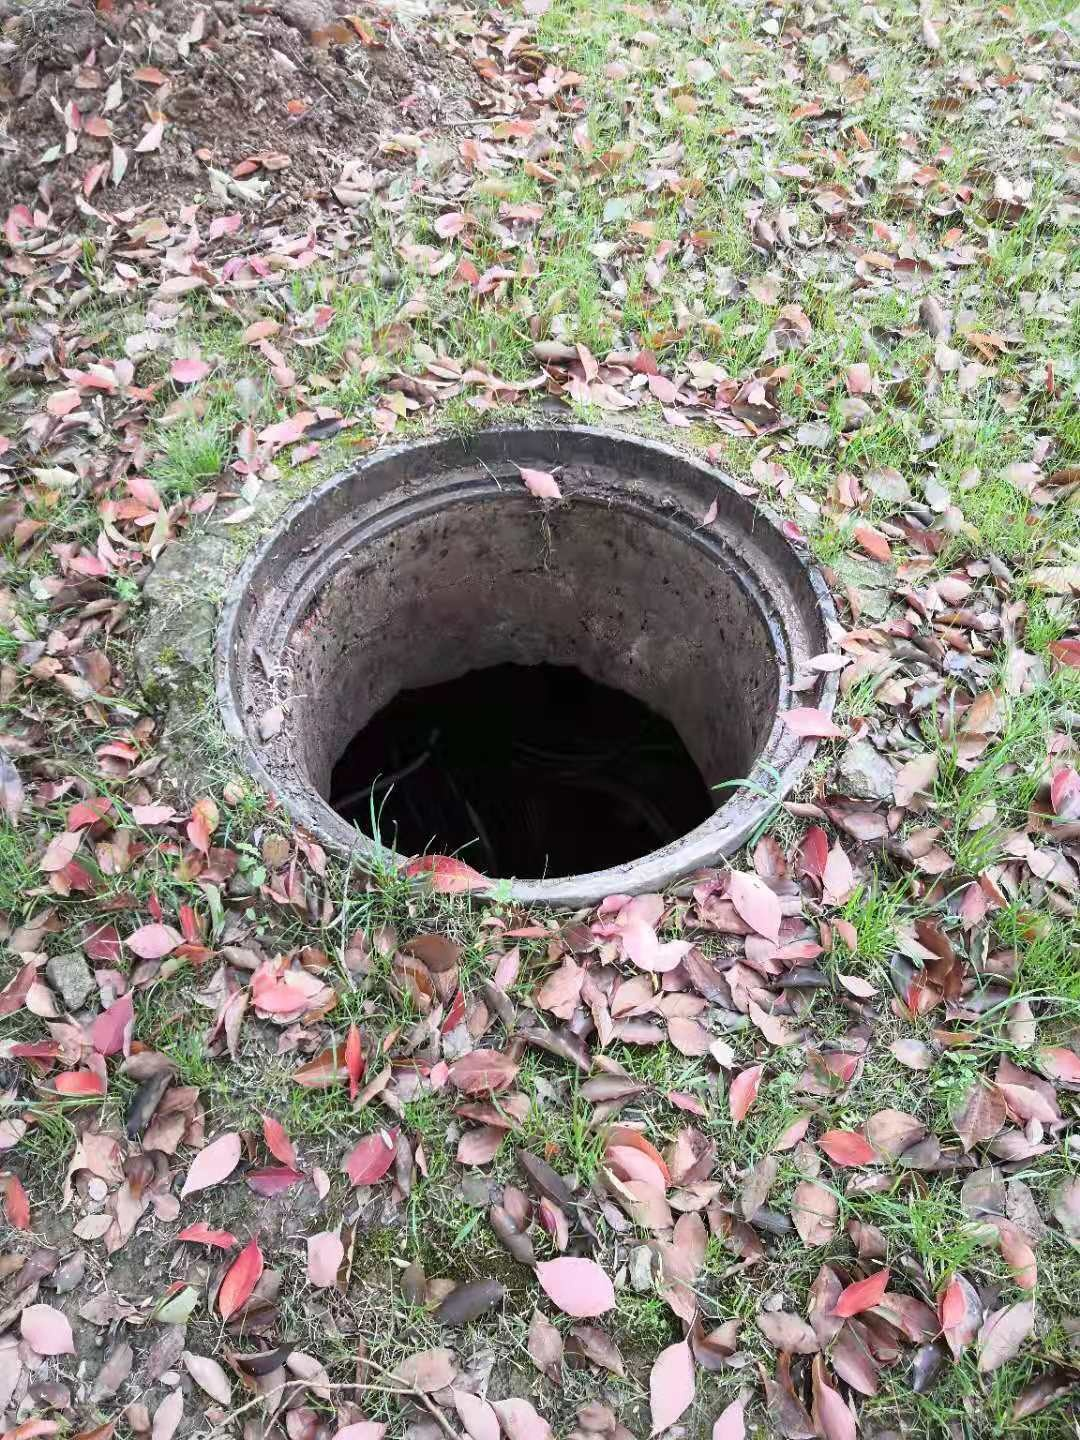lose: (216, 423, 843, 907)
